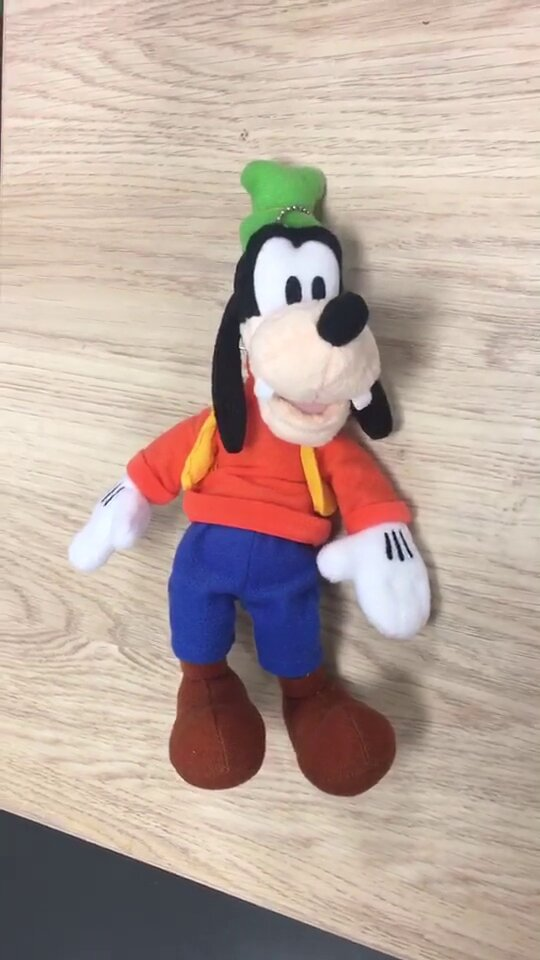goofy: (66, 156, 440, 802)
